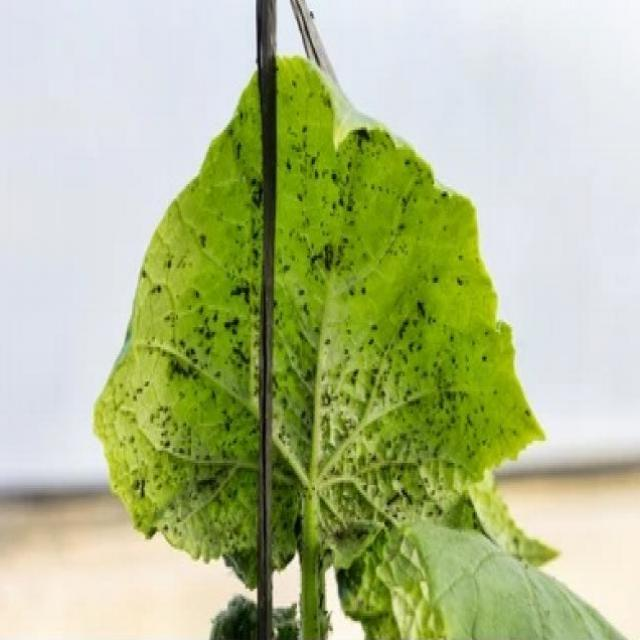Aphids: (294, 344, 486, 487), (278, 161, 402, 294), (144, 274, 254, 402), (126, 408, 252, 512), (269, 492, 373, 554), (217, 150, 263, 270), (374, 494, 454, 531), (272, 354, 291, 462), (385, 302, 433, 344), (424, 265, 472, 299)
